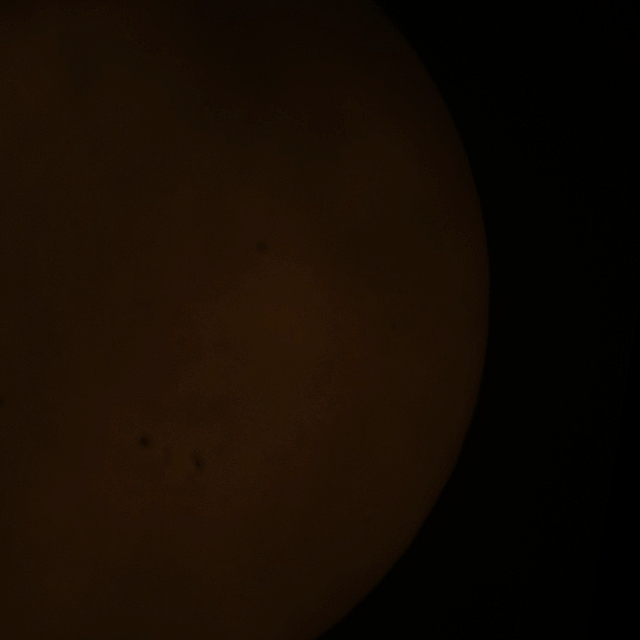sunspot: (181, 440, 216, 484), (127, 423, 159, 455), (247, 229, 280, 259)
